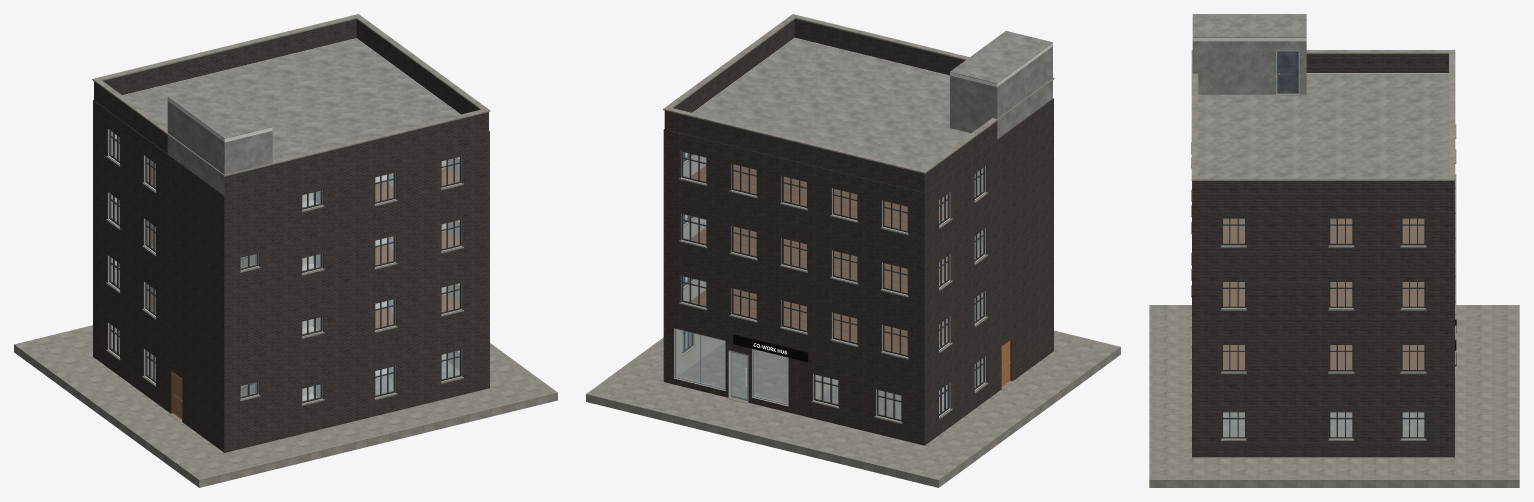
The model's file is b_cowork_hub.gltf.
The picture shows the model from 3 angles, left to right: view 1: azimuth 30°, elevation 25°; view 2: azimuth 150°, elevation 25°; view 3: azimuth 270°, elevation 25°; orthographic projection.
Parts seen in each view (by area): view 1: S_cowork_hub; view 2: S_cowork_hub, D_cowork_hub_F1_S4_Door0; view 3: S_cowork_hub, D_cowork_hub_PH_W0_Door0.
Part boxes in pixels (x1,y1,x2,y2): S_cowork_hub: [14, 14, 557, 487]; S_cowork_hub: [586, 14, 1120, 487]; D_cowork_hub_F1_S4_Door0: [730, 352, 747, 400]; S_cowork_hub: [1149, 14, 1519, 487]; D_cowork_hub_PH_W0_Door0: [1277, 51, 1298, 93].
Size of the model in its own units: 19 by 16.3 by 17.
20 materials, 11 textured.
